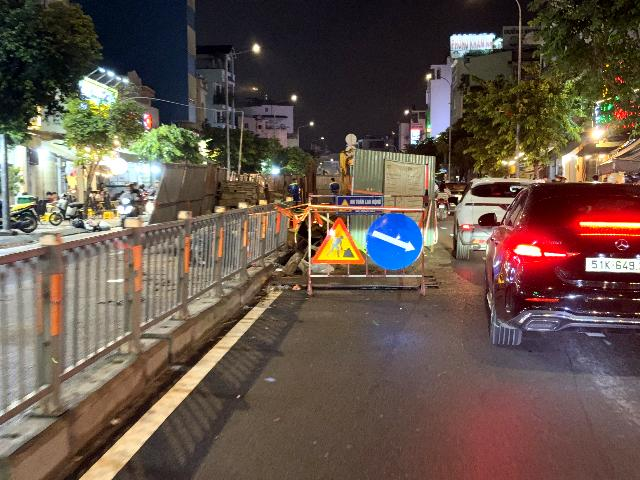cong-truong-dang-thi-cong: (312, 217, 366, 264)
huong-phai-di-vong-chuong-ngai-vat: (366, 213, 423, 269)
